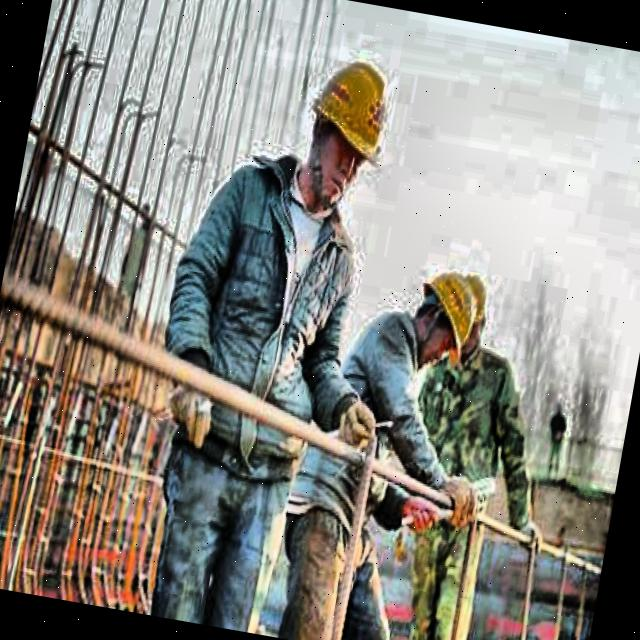helmet: (287, 28, 410, 230), (402, 260, 482, 370), (446, 274, 491, 366)
